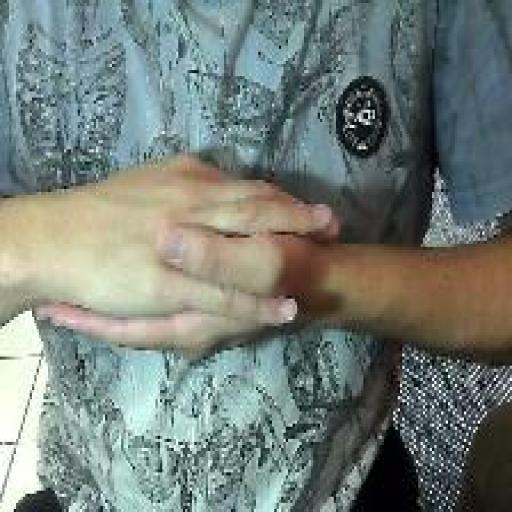Saru -monkey-: (30, 146, 345, 369)
